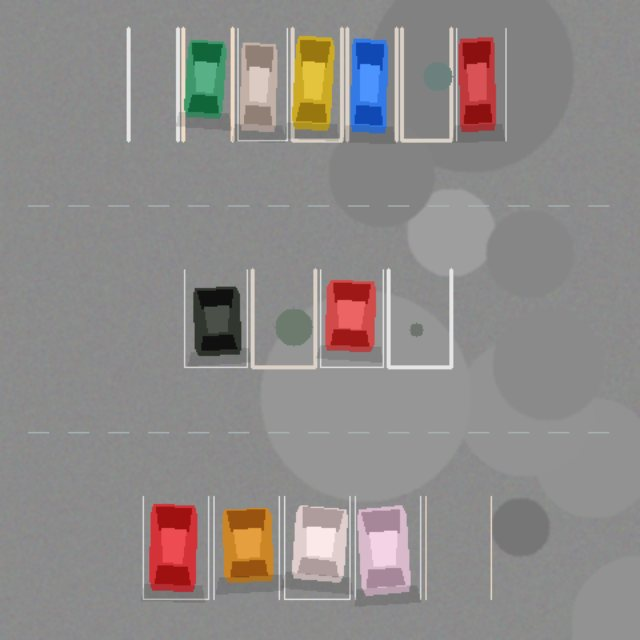space-empty: (425, 496, 491, 599), (252, 269, 315, 367), (388, 269, 451, 367), (401, 28, 451, 140), (128, 28, 177, 140)
space-occupied: (213, 496, 279, 599), (143, 496, 208, 599), (284, 496, 349, 599), (355, 496, 420, 599), (184, 269, 247, 367), (320, 269, 383, 367), (237, 28, 287, 140), (183, 28, 232, 140), (292, 28, 341, 140), (347, 28, 396, 140), (456, 28, 505, 140)
